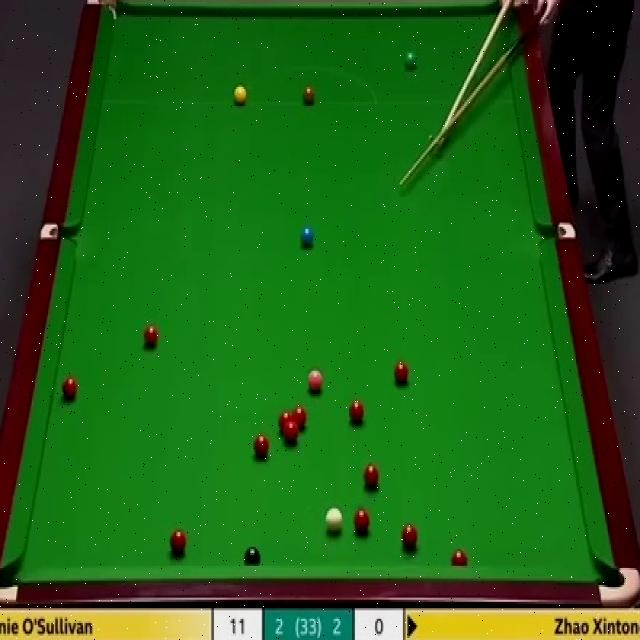black-ball: (244, 547, 261, 566)
blue-ball: (300, 224, 314, 250)
brown-ball: (300, 83, 316, 107)
green-ball: (402, 51, 418, 72)
pink-ball: (307, 365, 324, 394)
red-ball: (61, 373, 80, 402), (392, 360, 410, 390), (170, 528, 187, 556), (401, 522, 418, 550), (354, 508, 371, 536), (364, 464, 380, 491), (348, 399, 364, 426), (142, 325, 159, 349), (292, 407, 308, 432), (254, 434, 269, 458), (452, 544, 468, 566), (284, 424, 298, 445), (279, 411, 292, 432)
white-ball: (323, 504, 343, 538)
yellow-ball: (233, 84, 247, 105)
